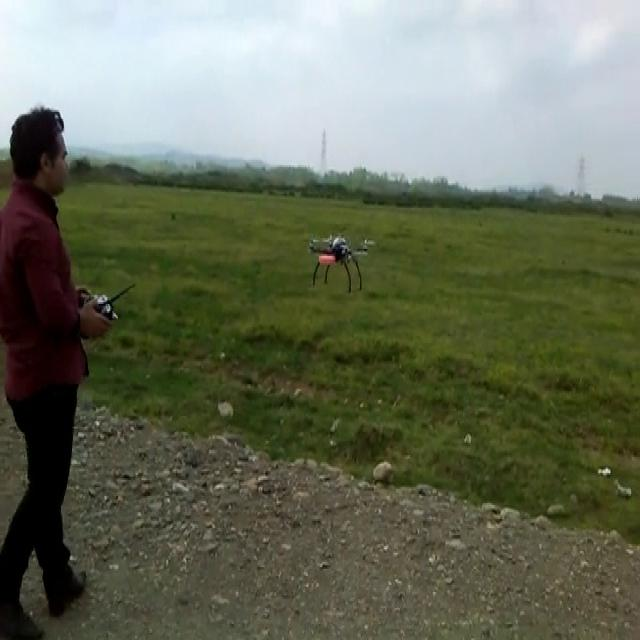drone: (305, 228, 376, 292)
